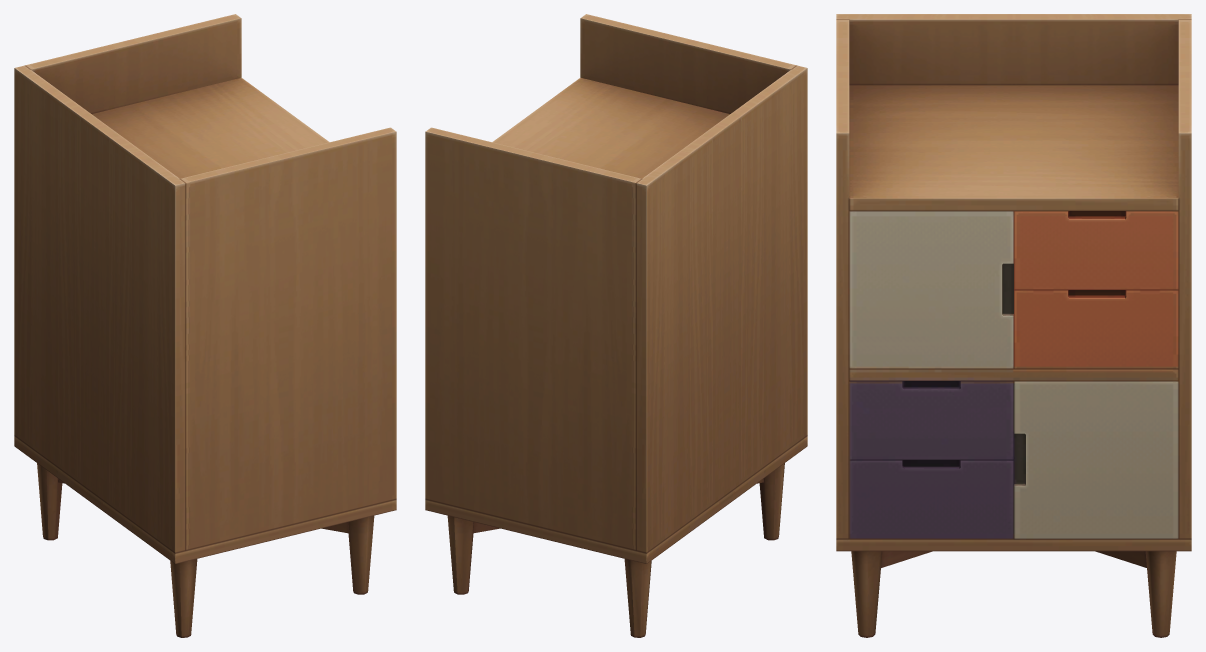
File: StubbyCubbyDresser.fbx
The picture shows the model from 3 angles, left to right: view 1: azimuth 30°, elevation 25°; view 2: azimuth 150°, elevation 25°; view 3: azimuth 270°, elevation 25°; orthographic projection. The views are drawn at different scales.
Visible parts, largest first — view 1: TinyLiving_StubbyCubbyDresser; view 2: TinyLiving_StubbyCubbyDresser; view 3: TinyLiving_StubbyCubbyDresser.
Part boxes in pixels (box(x1,y1,x2,y2)): TinyLiving_StubbyCubbyDresser: box(14, 14, 396, 637); TinyLiving_StubbyCubbyDresser: box(425, 14, 807, 637); TinyLiving_StubbyCubbyDresser: box(836, 14, 1191, 637).
Bounding box in the file's own units: 67.52 × 136 × 85.
